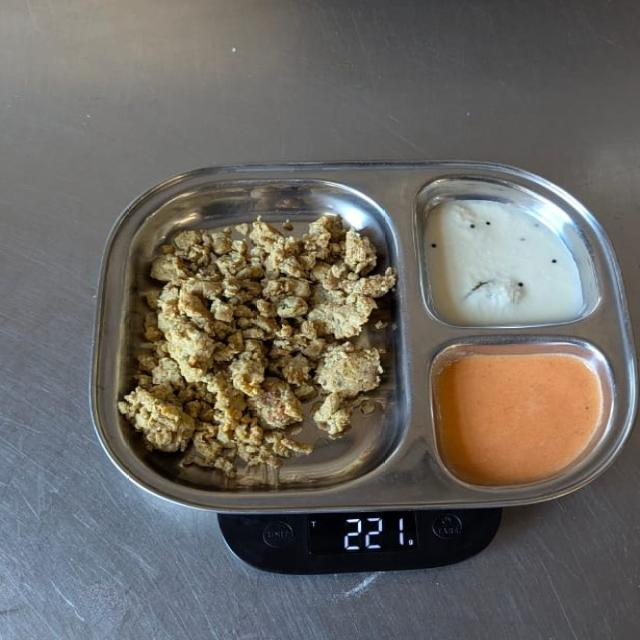Chutney: (433, 343, 612, 488), (415, 191, 596, 329)
Egg Bhurji: (123, 211, 392, 478)
